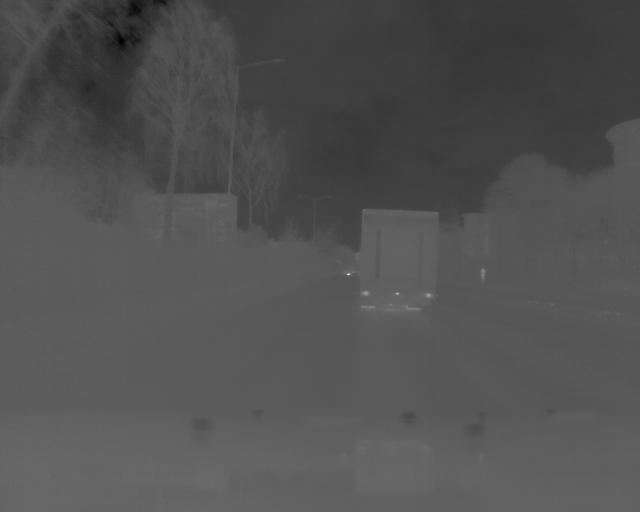car: (358, 205, 439, 324)
